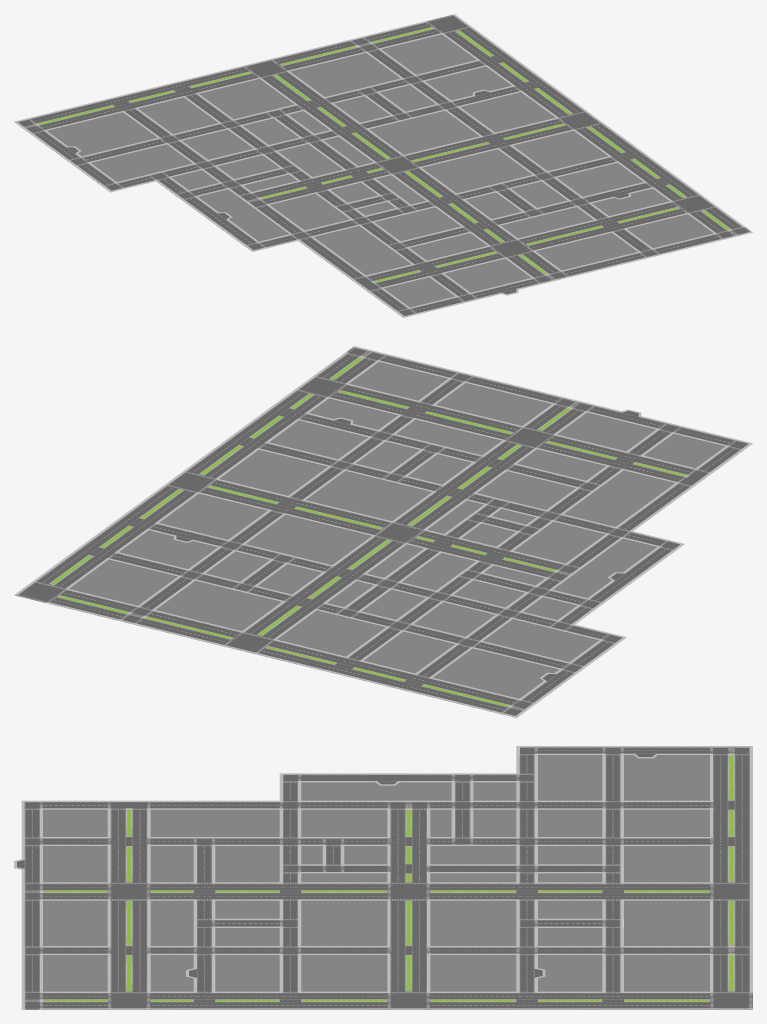
Rendered from roadScene.fbx.
3 views of the same model, one above another, from view 1: azimuth 30°, elevation 25°; view 2: azimuth 150°, elevation 25°; view 3: azimuth 270°, elevation 25° (orthographic). The views are drawn at different scales.
Parts seen in each view (by area): view 1: DoubleWay Road Tile End.072, DoubleWay Road Tile End.075, DoubleWay Road Tile End.078, DoubleWay Road Tile End.082, DoubleWay Road Tile End.053, DoubleWay Road Tile End.080, DoubleWay Road Tile End.074, DoubleWay Road Tile End.073, DoubleWay Road Tile End.079, DoubleWay Road Tile End.061, DoubleWay Road Tile End.085, DoubleWay Road Tile End.089 (+69 smaller); view 2: DoubleWay Road Tile End.072, DoubleWay Road Tile End.075, DoubleWay Road Tile End.078, DoubleWay Road Tile End.082, DoubleWay Road Tile End.053, DoubleWay Road Tile End.073, DoubleWay Road Tile End.079, DoubleWay Road Tile End.080, DoubleWay Road Tile End.074, DoubleWay Road Tile End.061, DoubleWay Road Tile End.085, DoubleWay Road Tile End.089 (+69 smaller); view 3: DoubleWay Road Tile End.072, DoubleWay Road Tile End.075, DoubleWay Road Tile End.082, DoubleWay Road Tile End.078, DoubleWay Road Tile End.053, DoubleWay Road Tile End.073, DoubleWay Road Tile End.074, DoubleWay Road Tile End.079, DoubleWay Road Tile End.080, DoubleWay Road Tile End.085, DoubleWay Road Tile End.061, DoubleWay Road Tile End.089 (+100 smaller).
Boxes of the visible parts, box(x1,y1,x2,y2) form: DoubleWay Road Tile End.072: box(422, 149, 531, 193); DoubleWay Road Tile End.075: box(369, 111, 479, 154); DoubleWay Road Tile End.078: box(290, 53, 400, 96); DoubleWay Road Tile End.082: box(47, 112, 156, 156); DoubleWay Road Tile End.053: box(314, 226, 410, 275); DoubleWay Road Tile End.080: box(199, 79, 293, 119); DoubleWay Road Tile End.074: box(460, 92, 555, 132); DoubleWay Road Tile End.073: box(513, 131, 607, 170); DoubleWay Road Tile End.079: box(382, 34, 475, 74); DoubleWay Road Tile End.061: box(536, 233, 636, 270); DoubleWay Road Tile End.085: box(91, 144, 192, 181); DoubleWay Road Tile End.089: box(198, 189, 288, 241); DoubleWay Road Tile End.072: box(306, 471, 431, 520); DoubleWay Road Tile End.075: box(246, 515, 371, 564); DoubleWay Road Tile End.078: box(156, 581, 281, 630); DoubleWay Road Tile End.082: box(433, 648, 558, 698); DoubleWay Road Tile End.053: box(564, 470, 674, 526); DoubleWay Road Tile End.073: box(219, 450, 327, 495); DoubleWay Road Tile End.079: box(69, 560, 177, 605); DoubleWay Road Tile End.080: box(277, 610, 385, 656); DoubleWay Road Tile End.074: box(159, 494, 267, 539); DoubleWay Road Tile End.061: box(436, 383, 551, 425); DoubleWay Road Tile End.085: box(483, 619, 598, 662); DoubleWay Road Tile End.089: box(553, 539, 656, 598); DoubleWay Road Tile End.072: box(301, 901, 387, 945); DoubleWay Road Tile End.075: box(430, 901, 516, 945); DoubleWay Road Tile End.082: box(624, 755, 709, 800); DoubleWay Road Tile End.078: box(624, 901, 709, 945); DoubleWay Road Tile End.053: box(150, 810, 279, 836); DoubleWay Road Tile End.073: box(301, 955, 387, 991); DoubleWay Road Tile End.074: box(430, 955, 516, 991); DoubleWay Road Tile End.079: box(624, 955, 709, 991); DoubleWay Road Tile End.080: box(624, 846, 709, 882); DoubleWay Road Tile End.085: box(538, 755, 602, 800); DoubleWay Road Tile End.061: box(43, 901, 107, 945); DoubleWay Road Tile End.089: box(301, 782, 451, 800).
Size of the model in its own units: 49300 by 20 by 58398.
